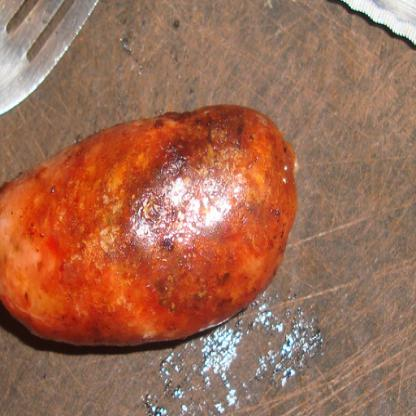knife: (133, 0, 415, 158)
